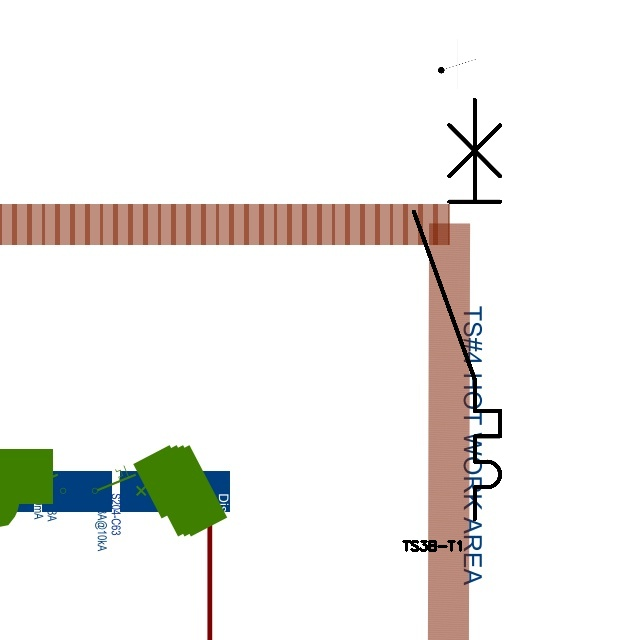interruptor_termomagnetico: (403, 88, 511, 529)
